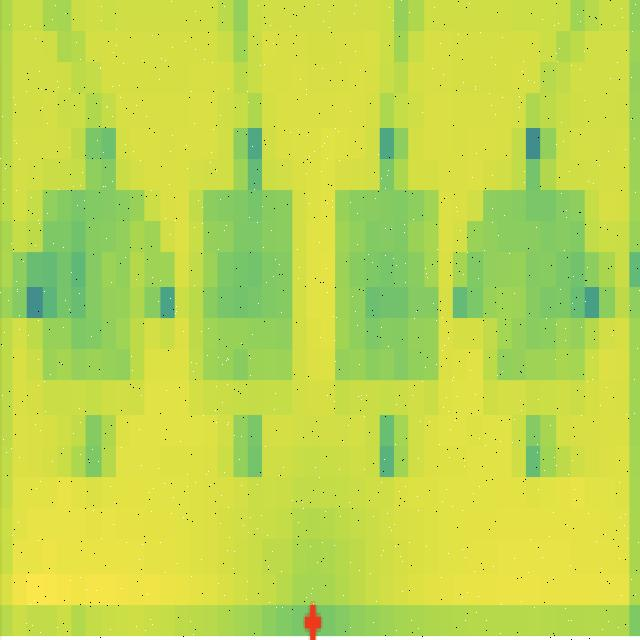Concrete: (186, 170, 305, 412)
Glass: (31, 168, 146, 399)
Metal: (324, 162, 446, 407)
Wood: (466, 158, 596, 395)
